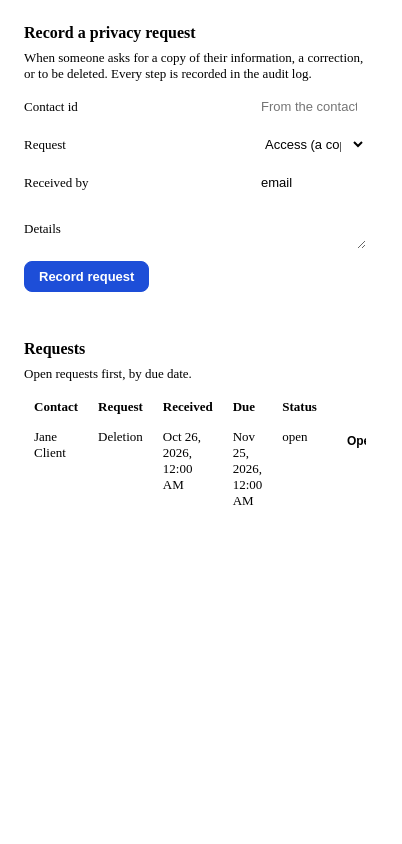
Test: Privacy requests › explains what a deletion keeps and why
Click the button "Open".
click(362, 441)  # box 337,429 -> 388,453
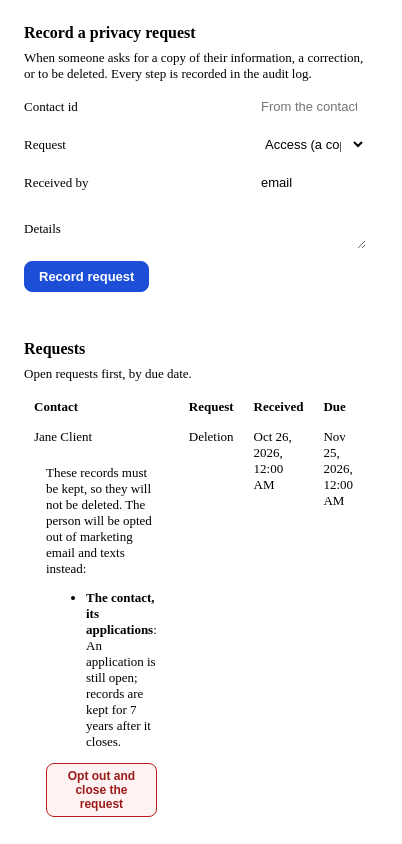
Check: the list item "kept for 7 years after it closes" is shown, box 86,638 -> 156,749
Check: the button "Opt out and close the request" is shown, box 46,763 -> 157,817
